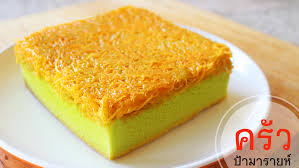foitong: (24, 36, 233, 82), (40, 17, 206, 36), (71, 84, 185, 111)
